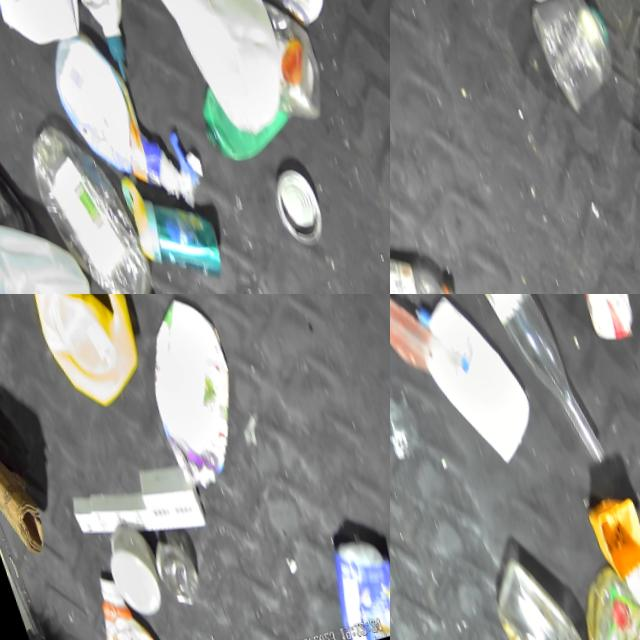can: (257, 162, 325, 252)
milk_jug: (397, 294, 541, 478), (121, 0, 301, 147), (0, 190, 103, 294), (0, 0, 91, 54)
non_white_jug: (0, 294, 153, 417), (299, 528, 390, 640)
plastic_bottle: (8, 108, 161, 294), (390, 236, 457, 294)
